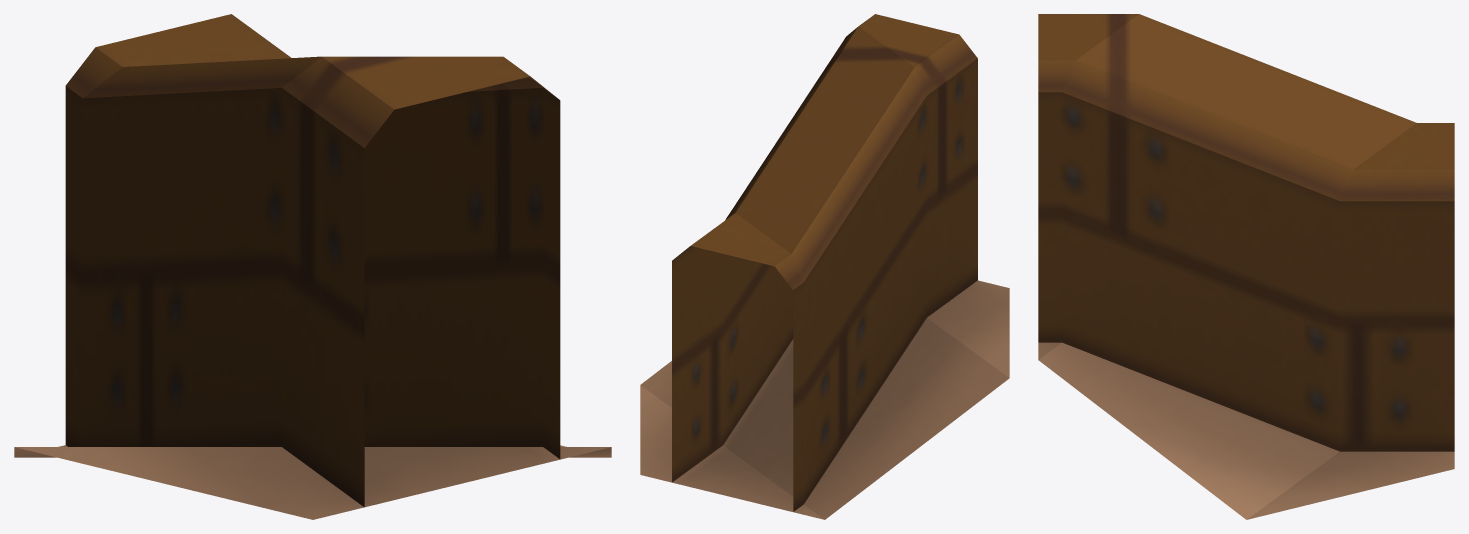
Rendered from Barriere_PP_HB_C.FBX.
3 renders of one model, left to right at view 1: azimuth 30°, elevation 25°; view 2: azimuth 150°, elevation 25°; view 3: azimuth 270°, elevation 25°, orthographic. The views are drawn at different scales.
Visible parts, largest first — view 1: Barriere_PP_HB_C; view 2: Barriere_PP_HB_C; view 3: Barriere_PP_HB_C.
Part boxes in pixels (x1,y1,x2,y2): Barriere_PP_HB_C: (14, 14, 611, 519); Barriere_PP_HB_C: (640, 14, 1009, 519); Barriere_PP_HB_C: (1038, 14, 1454, 519).
Size of the model in its own units: 0.9999 by 0.8747 by 0.8663.
